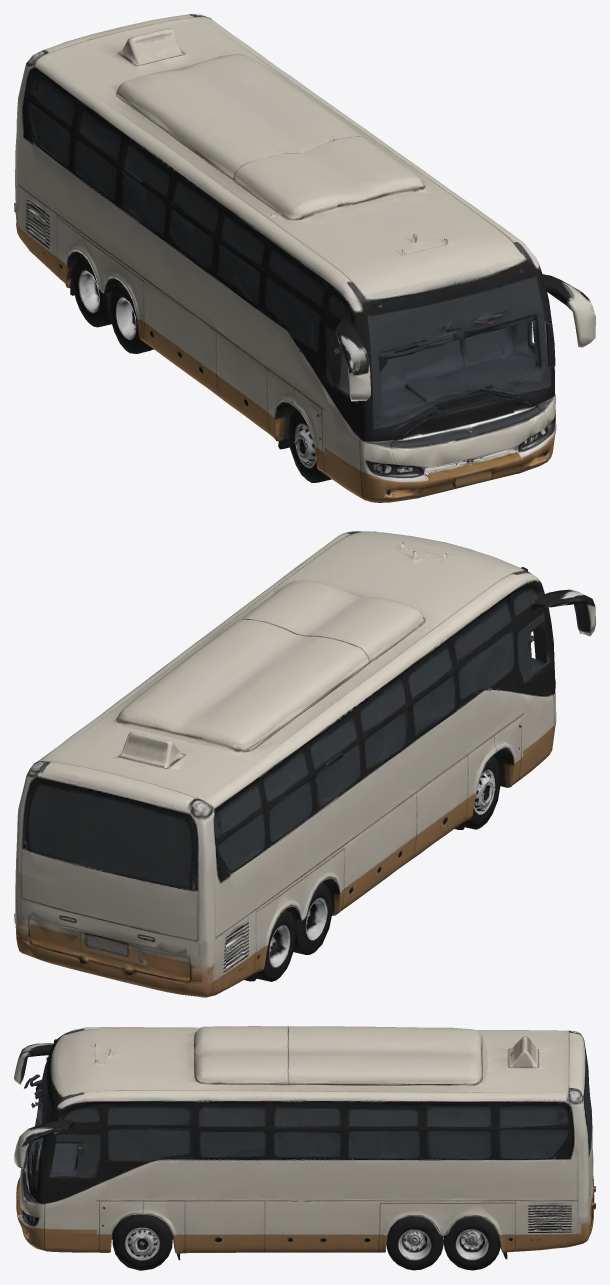
File: coach.glb
3 renders of one model, top to bottom at view 1: azimuth 30°, elevation 25°; view 2: azimuth 150°, elevation 25°; view 3: azimuth 270°, elevation 25°, orthographic. The views are drawn at different scales.
Visible parts, largest first — view 1: tripo_node_3d4cb42c-1ec0-43f7-8723-cd62a2927b9f; view 2: tripo_node_3d4cb42c-1ec0-43f7-8723-cd62a2927b9f; view 3: tripo_node_3d4cb42c-1ec0-43f7-8723-cd62a2927b9f.
Part boxes in pixels (bbox=[...]): tripo_node_3d4cb42c-1ec0-43f7-8723-cd62a2927b9f: bbox=[14, 14, 595, 502]; tripo_node_3d4cb42c-1ec0-43f7-8723-cd62a2927b9f: bbox=[14, 531, 595, 997]; tripo_node_3d4cb42c-1ec0-43f7-8723-cd62a2927b9f: bbox=[14, 1026, 595, 1270].
Bounding box in the file's own units: 0.3828 × 0.3683 × 1.
1 material, 1 textured.
